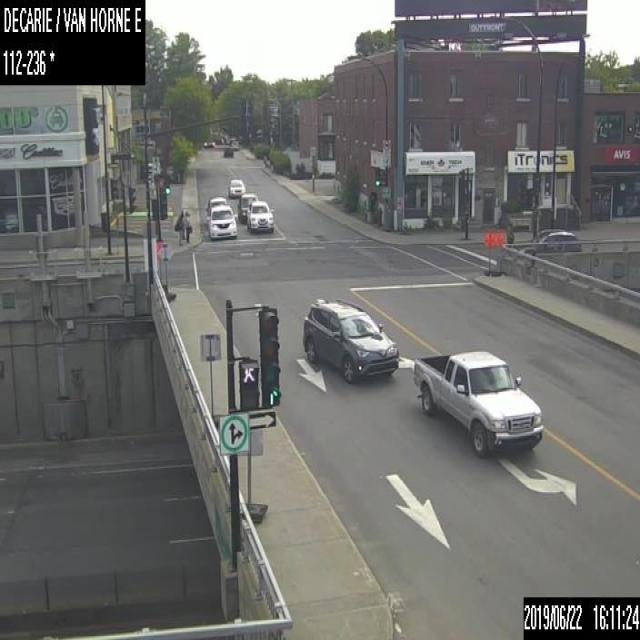construction: (198, 329, 225, 428), (239, 426, 267, 520), (494, 231, 505, 276), (484, 231, 493, 275)
pedestrian: (174, 209, 182, 244), (183, 210, 191, 242)
vehicle: (412, 349, 542, 454), (302, 298, 397, 381), (517, 228, 580, 254), (206, 204, 236, 239), (247, 199, 274, 232), (238, 191, 258, 222), (207, 194, 227, 220), (228, 176, 245, 197), (230, 138, 239, 149), (224, 146, 232, 156)
